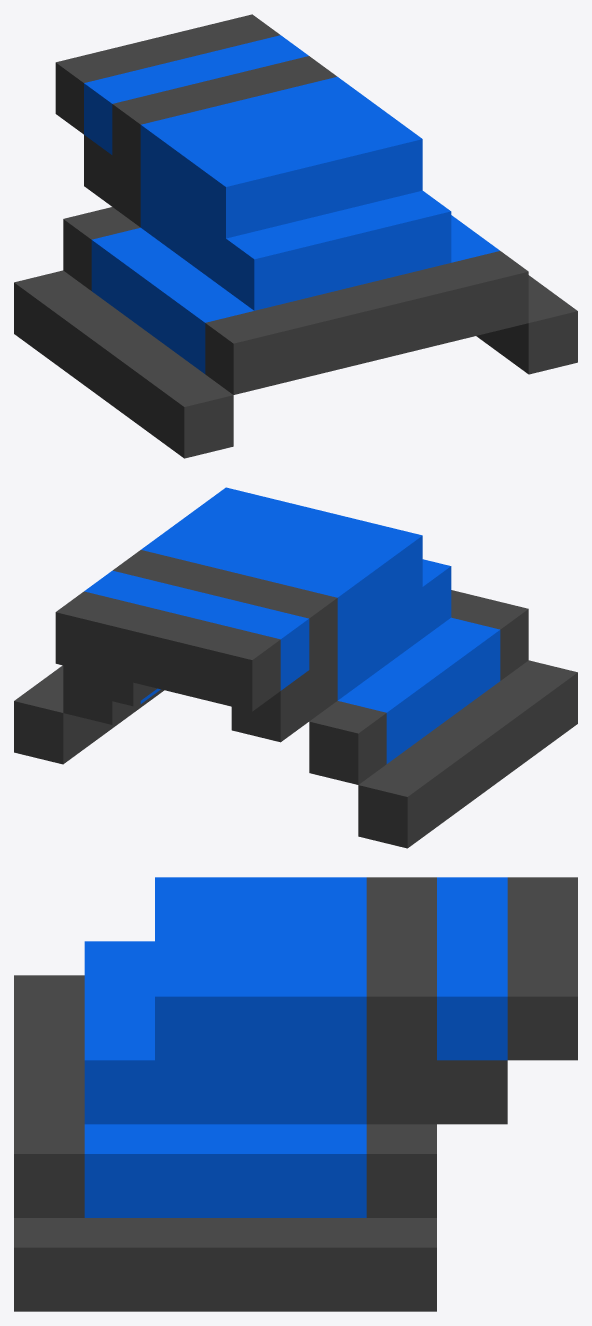
File: Extra-10-CamoJet_Cockpit.obj
The picture shows the model from 3 angles, top to bottom: view 1: azimuth 30°, elevation 25°; view 2: azimuth 150°, elevation 25°; view 3: azimuth 270°, elevation 25°; orthographic projection. The views are drawn at different scales.
Visible parts, largest first — view 1: CamoJet_Cockpit; view 2: CamoJet_Cockpit; view 3: CamoJet_Cockpit.
Boxes of the visible parts, x1=… form: CamoJet_Cockpit: x1=14, y1=14, x2=577, y2=458; CamoJet_Cockpit: x1=14, y1=487, x2=577, y2=848; CamoJet_Cockpit: x1=14, y1=877, x2=577, y2=1311.
Bounding box in the file's own units: 0.8 × 0.4 × 0.8.
Materials: 1 (1 with a texture image).
